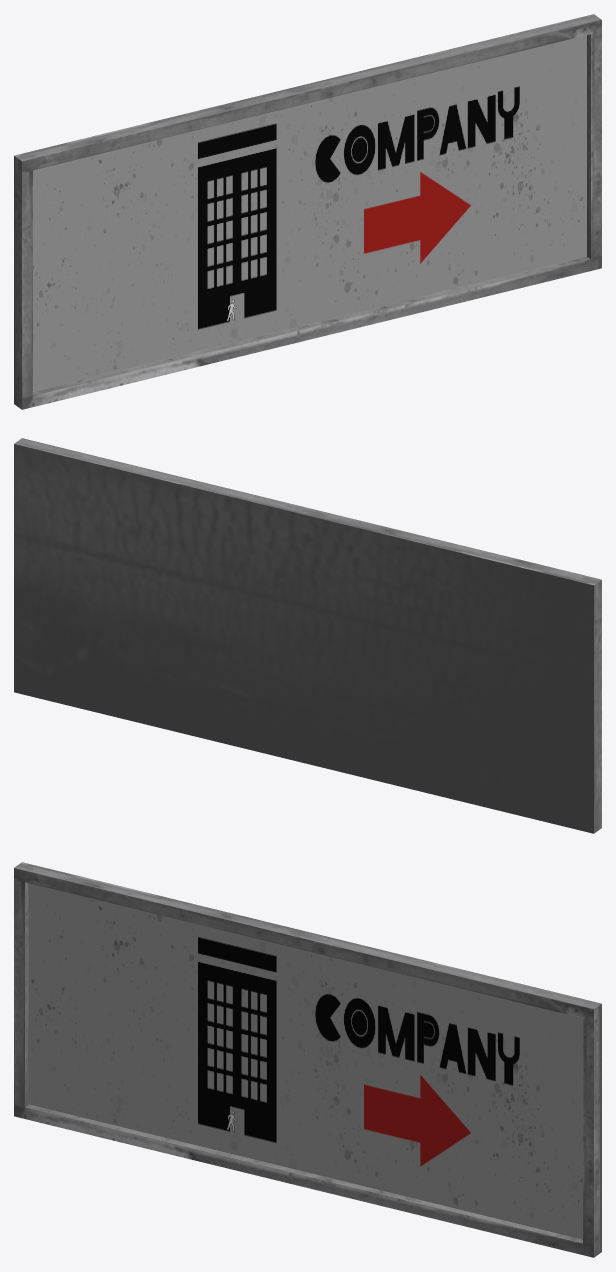
Rendered from SignBoard.fbx.
The picture shows the model from 3 angles, top to bottom: view 1: azimuth 30°, elevation 25°; view 2: azimuth 150°, elevation 25°; view 3: azimuth 330°, elevation 25°; orthographic projection.
Visible parts, largest first — view 1: bank sign_Baked; view 2: bank sign_Baked; view 3: bank sign_Baked.
Boxes of the visible parts, x1,y1,x2,y2 form: bank sign_Baked: (14,14,601,409); bank sign_Baked: (14,438,601,833); bank sign_Baked: (14,862,601,1257).
Size of the model in its own units: 1.09 by 0.4445 by 0.0259.
